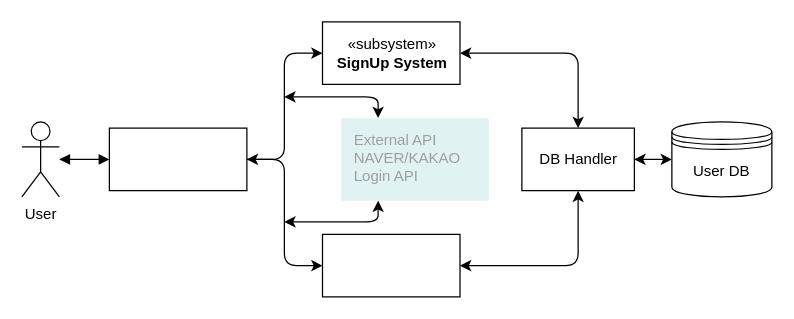
Image size: 794x319. Some labels were removed from this diagram. The shapes that lost their labels are listed below. From the top down, each one's centre as x and y in pixels, then its label:
[177,159]: User Interface
[390,265]: «subsystem» Login System
